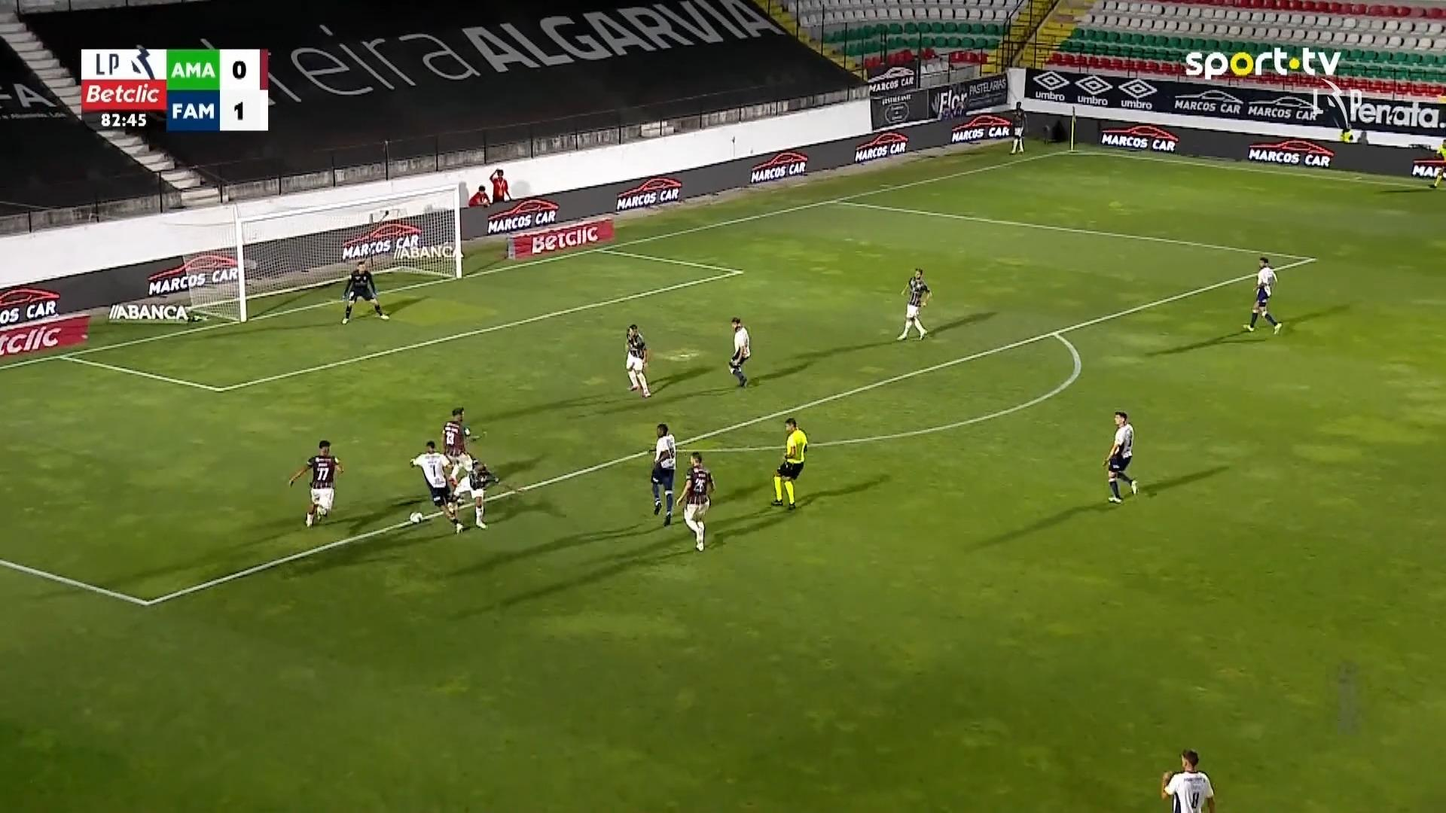ball: (408, 510, 423, 523)
goalkeeper: (340, 260, 390, 324)
player: (408, 440, 465, 534), (288, 439, 343, 527), (448, 450, 500, 529), (675, 450, 715, 551), (1160, 748, 1215, 811), (1102, 410, 1138, 504), (1241, 255, 1283, 334), (649, 422, 677, 525), (895, 267, 932, 340), (441, 406, 480, 461), (624, 323, 651, 398), (728, 316, 751, 387), (1008, 101, 1027, 154), (1427, 140, 1445, 189)
referee: (770, 416, 807, 510)
